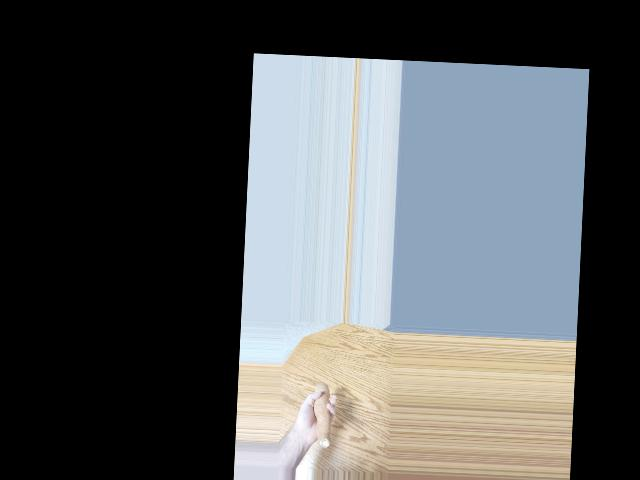sweet_potato: (315, 378, 335, 450)
